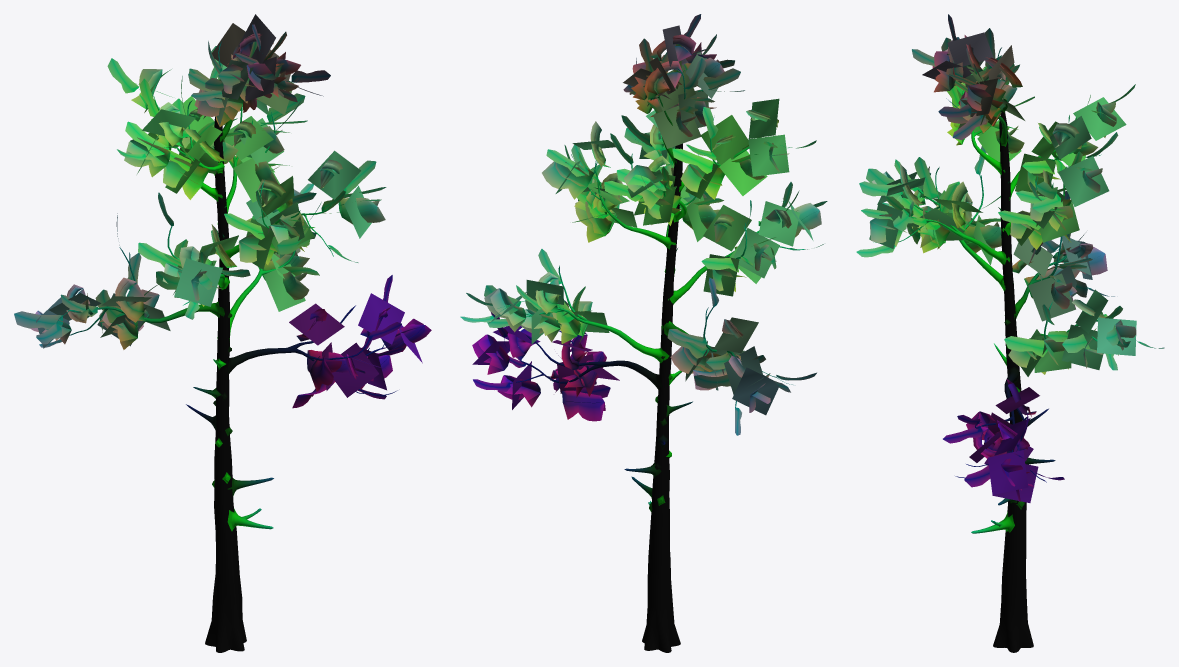
The model's file is Scots Three.fbx.
The picture shows the model from 3 angles, left to right: view 1: azimuth 30°, elevation 25°; view 2: azimuth 150°, elevation 25°; view 3: azimuth 270°, elevation 25°; orthographic projection. The views are drawn at different scales.
Visible parts, largest first — view 1: branch08_1, _0; view 2: branch08_1, _0; view 3: branch08_1, _0.
Boxes of the visible parts, left/top/right/bottom form: branch08_1: left=14, top=14, right=431, bottom=408; _0: left=46, top=41, right=397, bottom=652; branch08_1: left=460, top=14, right=827, bottom=435; _0: left=494, top=67, right=805, bottom=652; branch08_1: left=856, top=14, right=1164, bottom=502; _0: left=873, top=47, right=1136, bottom=652.
Size of the model in its own units: 1146 by 1860 by 830.
